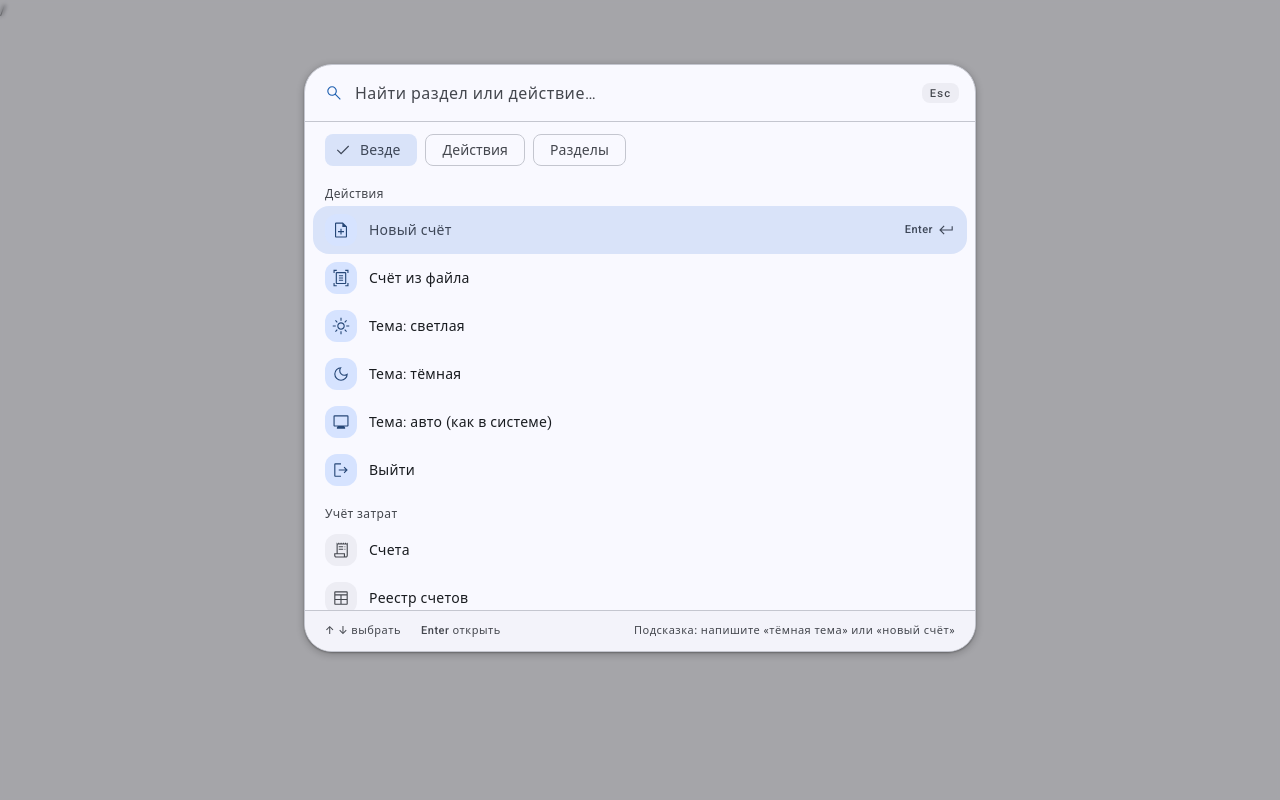
Test: командная палитра › название раздела ведёт в раздел, а не в действие со словом раздела
Type "счета" into the field named "Поиск и действия" at coordinates (632, 93), box x1=355 y1=65 x2=910 y2=121
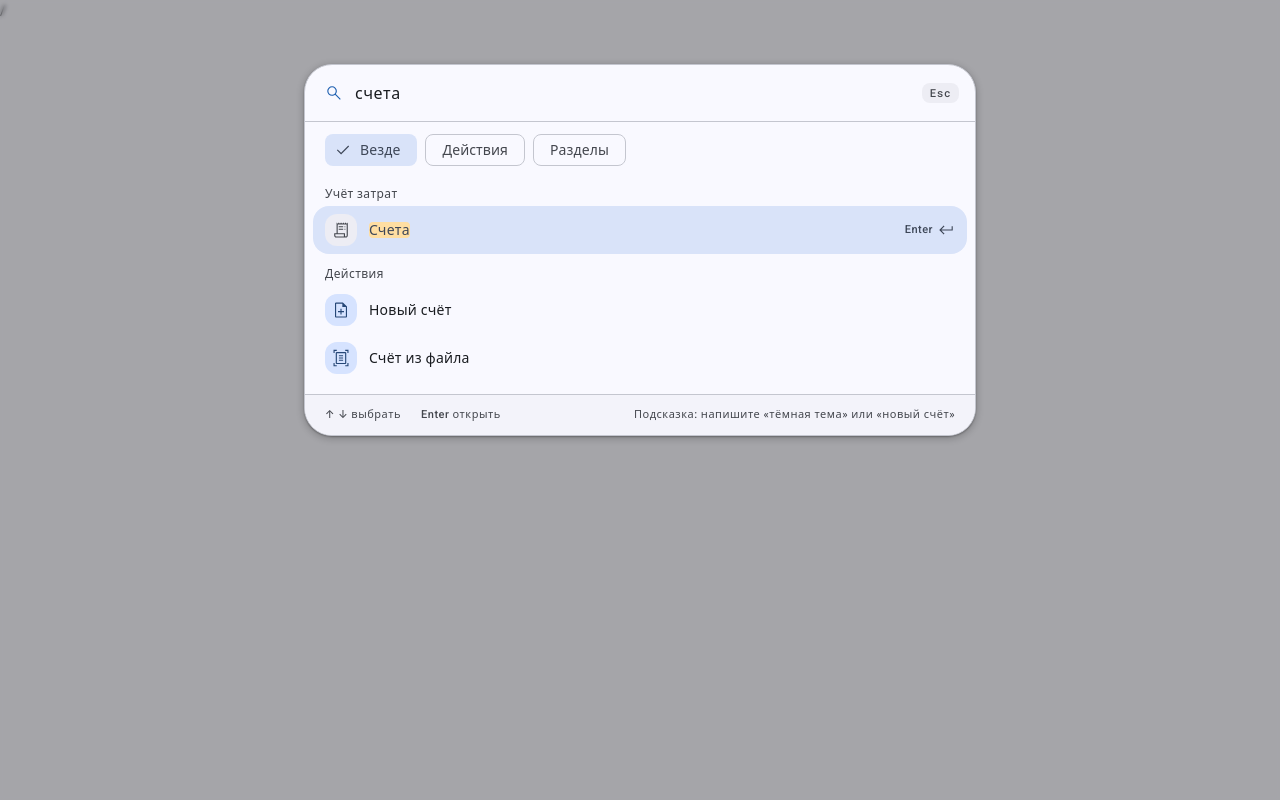
Expected: the text "Счета" is shown, x1=369 y1=222 x2=410 y2=238
Press Enter in the field named "Поиск и действия", box x1=355 y1=65 x2=910 y2=121
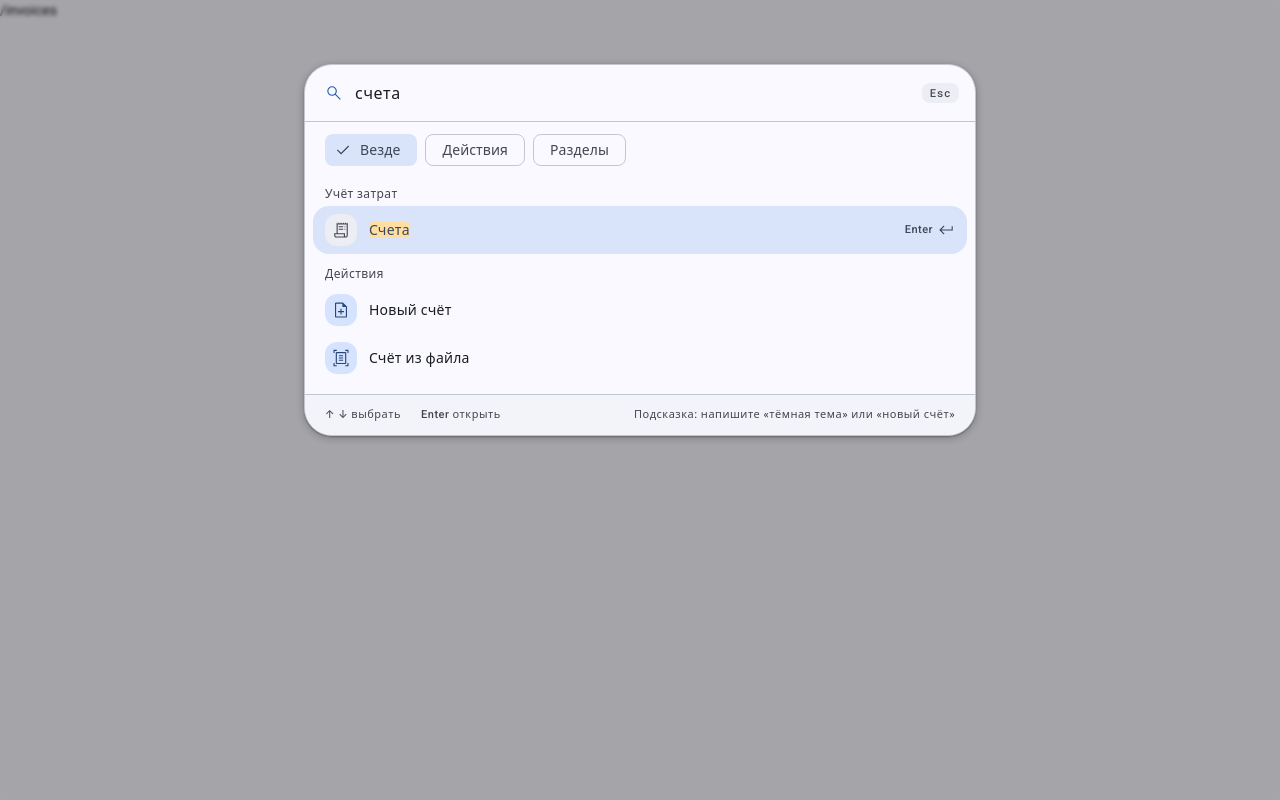
Expected: the text named "адрес" reads "/invoices", x1=0 y1=2 x2=57 y2=18
